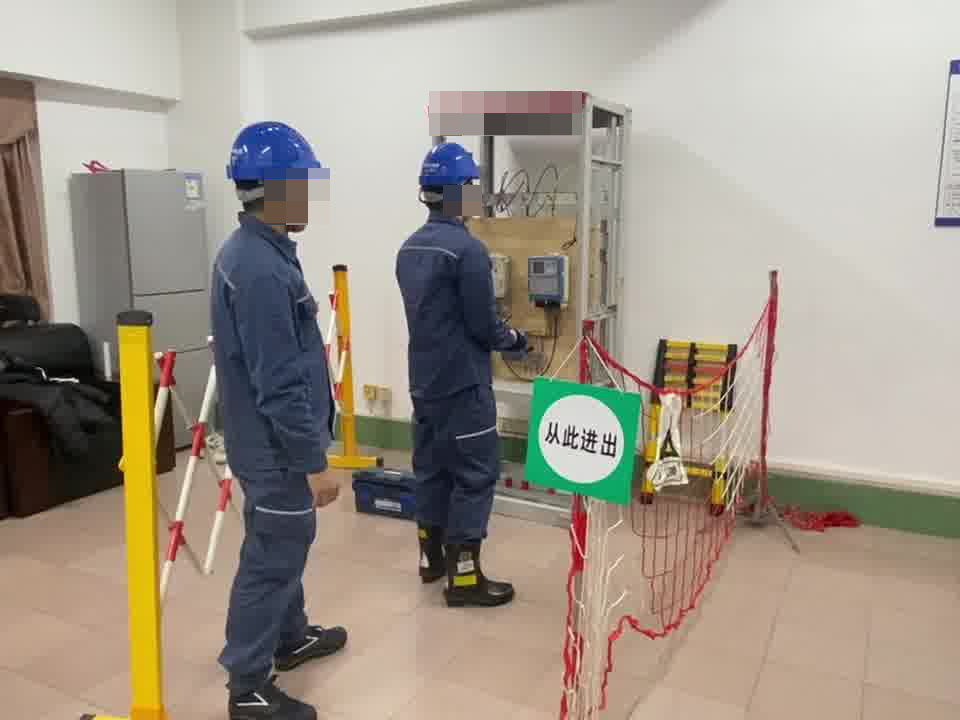downsuit: (220, 472, 320, 675), (407, 399, 502, 543)
halt: (225, 119, 330, 230), (418, 141, 483, 212)
hand: (306, 469, 344, 515)
inear: (268, 181, 304, 218)
intosign: (529, 376, 633, 509)
person: (203, 115, 349, 709), (390, 139, 532, 592)
shoe: (415, 539, 511, 605)
upsuit: (212, 232, 336, 465), (397, 217, 515, 387)
